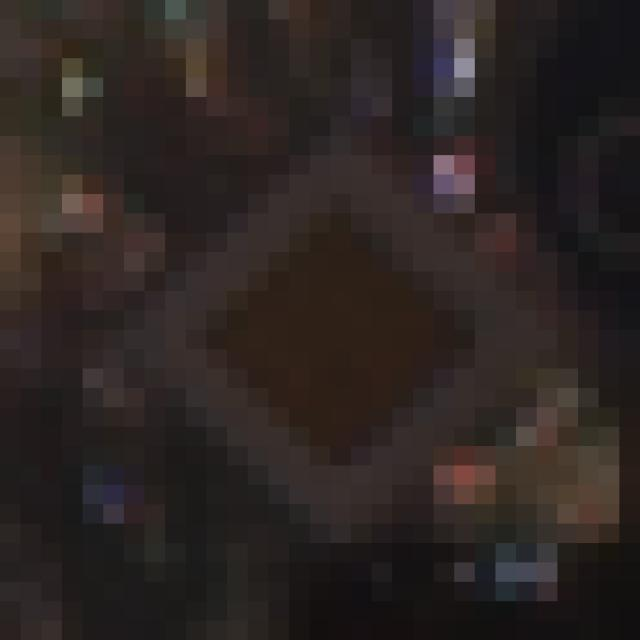Main Road: (104, 117, 538, 544)
